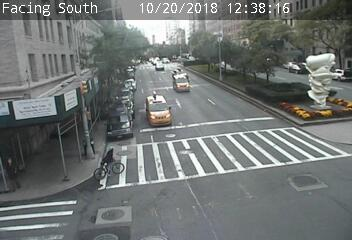car: (146, 96, 171, 125), (173, 75, 189, 92), (176, 71, 191, 81), (155, 62, 166, 71)
